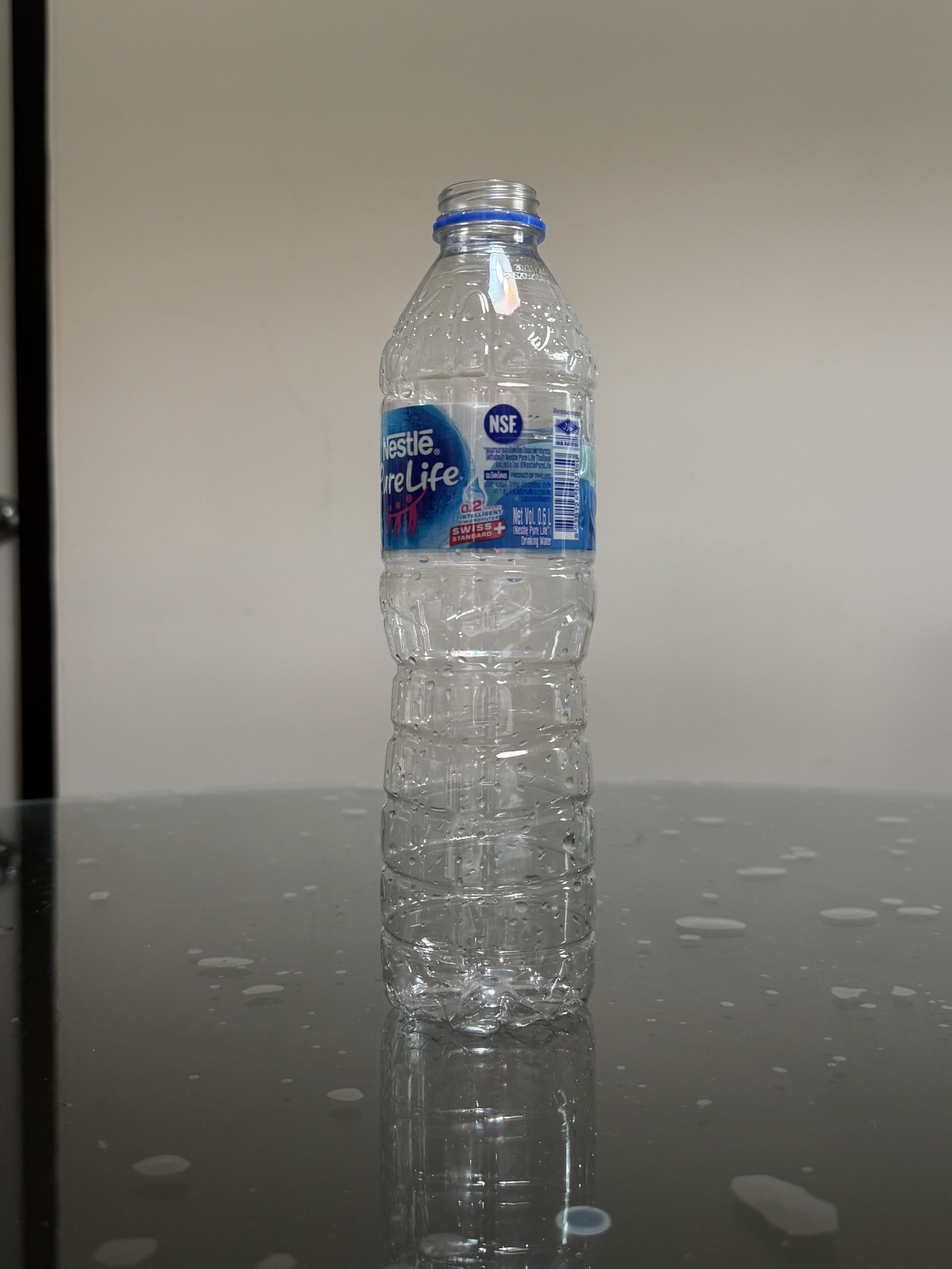no_cap: (430, 178, 548, 238)
